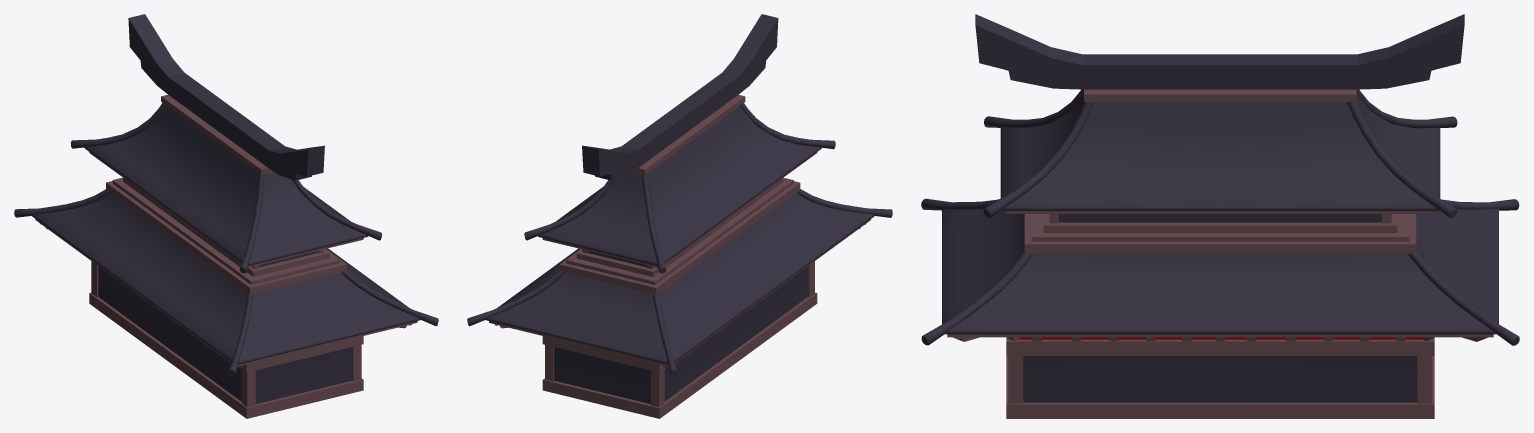
The model's file is roof_top.fbx.
3 views of the same model, side by side, from view 1: azimuth 30°, elevation 25°; view 2: azimuth 150°, elevation 25°; view 3: azimuth 270°, elevation 25° (orthographic). The views are drawn at different scales.
Parts seen in each view (by area): view 1: roof_top; view 2: roof_top; view 3: roof_top.
Part boxes in pixels (<box>): roof_top: <box>14,14,438,418</box>; roof_top: <box>467,14,892,418</box>; roof_top: <box>921,14,1519,418</box>.
Size of the model in its own units: 539 by 650 by 978.
